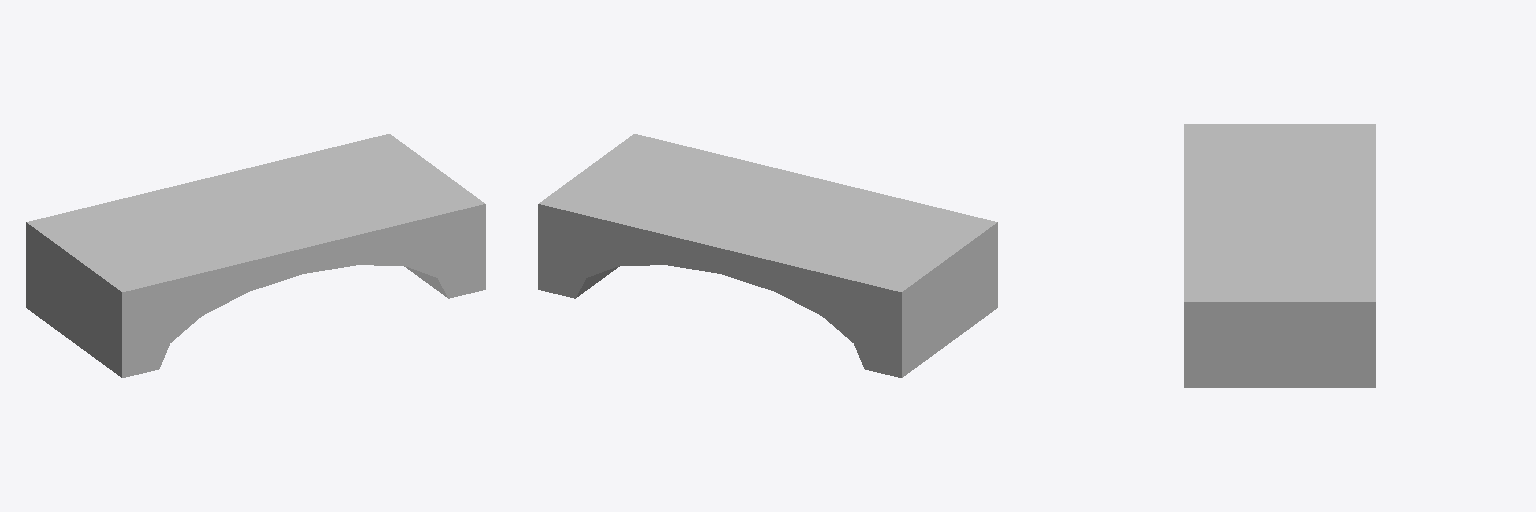
File: simplearchbridge.obj
The picture shows the model from 3 angles: view 1: azimuth 30°, elevation 25°; view 2: azimuth 150°, elevation 25°; view 3: azimuth 270°, elevation 25°; orthographic projection.
Visible parts, largest first — view 1: Cube_Cube.002; view 2: Cube_Cube.002; view 3: Cube_Cube.002.
Boxes of the visible parts, x1=… form: Cube_Cube.002: x1=26, y1=134, x2=485, y2=377; Cube_Cube.002: x1=538, y1=134, x2=997, y2=377; Cube_Cube.002: x1=1184, y1=124, x2=1375, y2=387.
Bounding box in the file's own units: 3.39 × 0.7665 × 1.55.